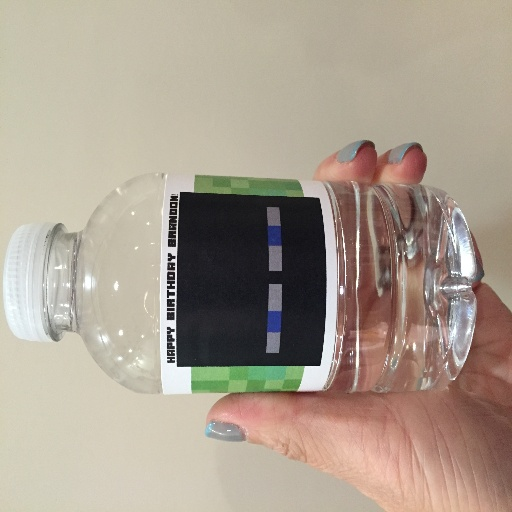hand: (195, 137, 511, 511)
